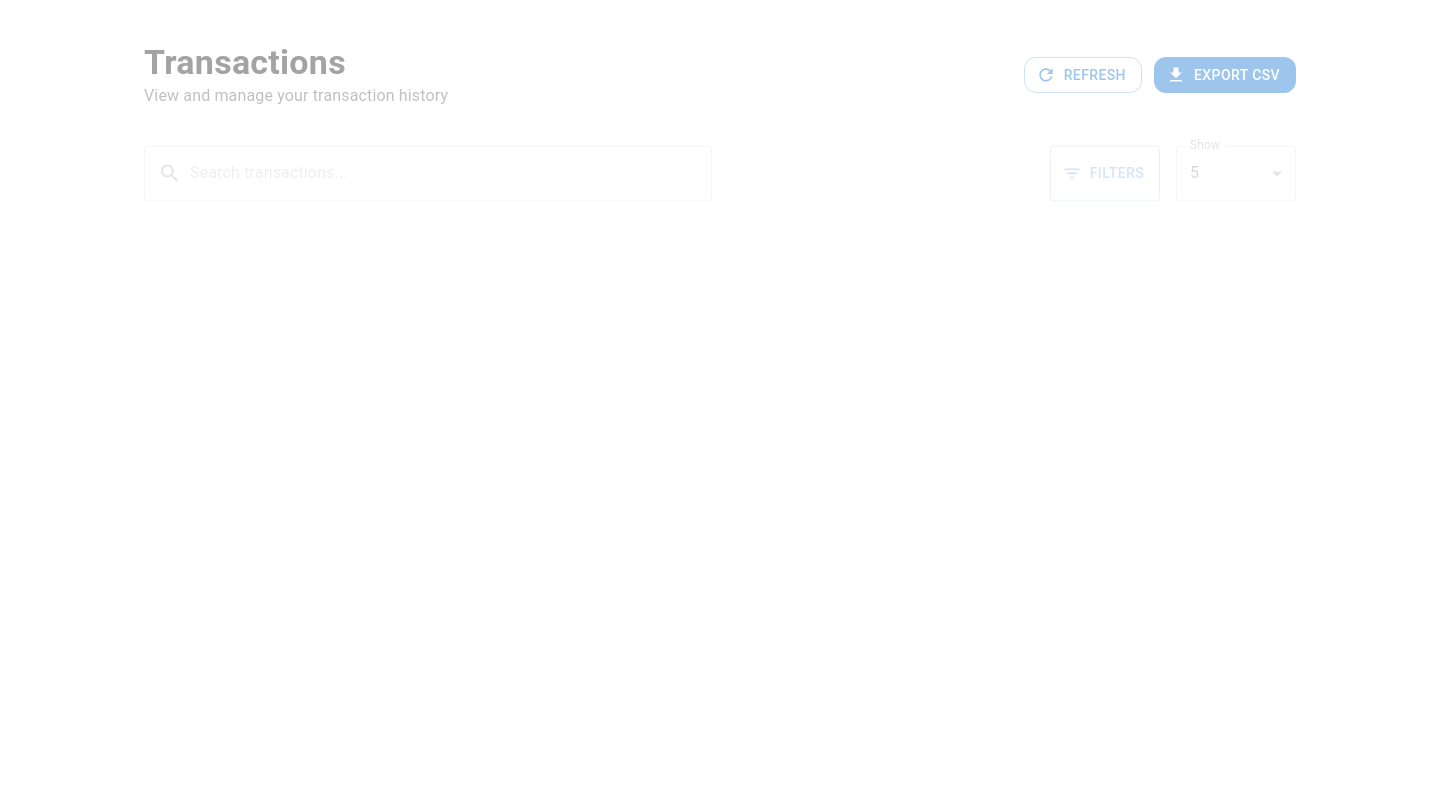
it: Transactions Page › renders type filter
This screenshot has width=1440, height=810.
The Type filter is inside the collapsible "Filters" panel.
Click the button "Filters".
click(1105, 173)  # box [1050, 145, 1160, 201]
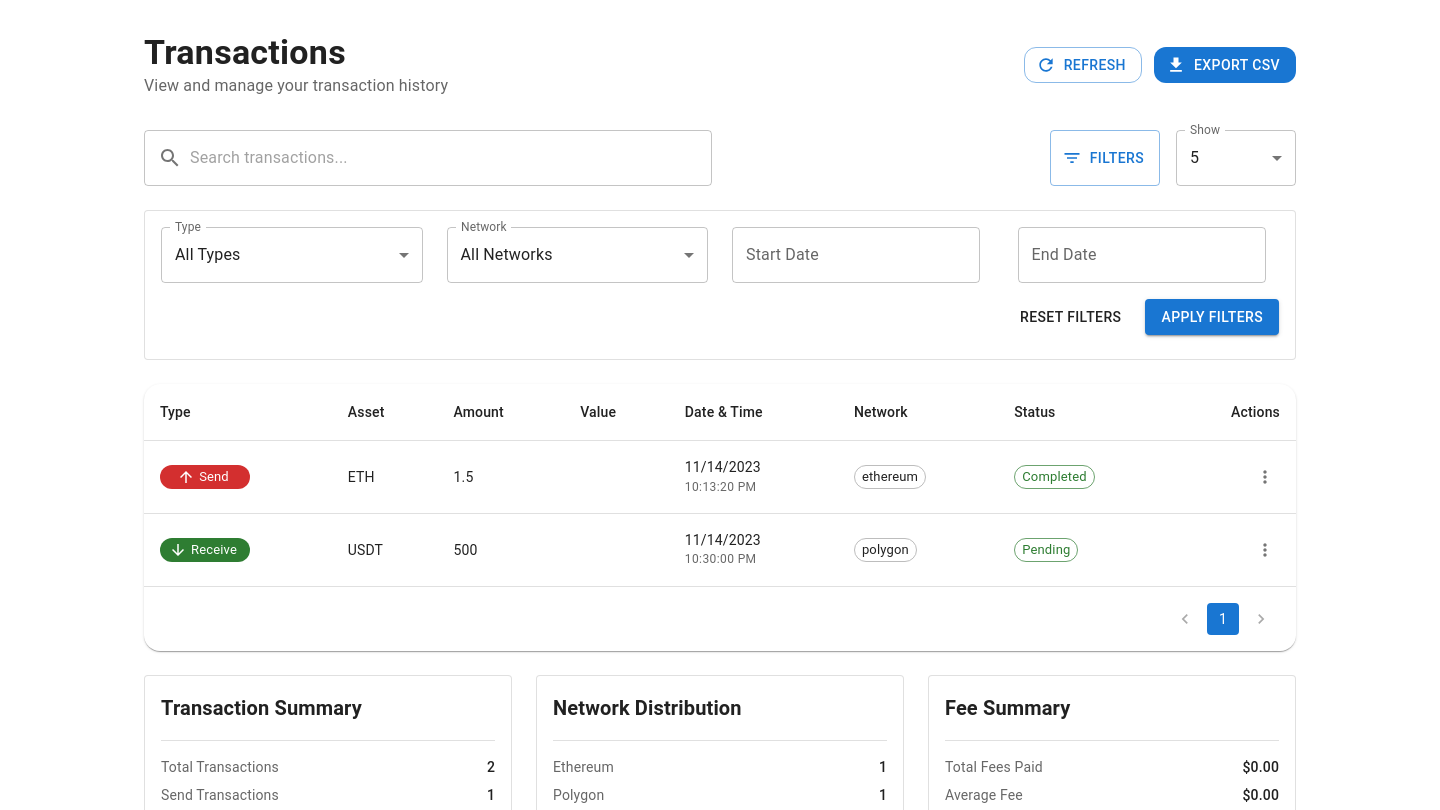
Now the dropdown labelled "All Types" is shown, box [175, 246, 240, 264]
